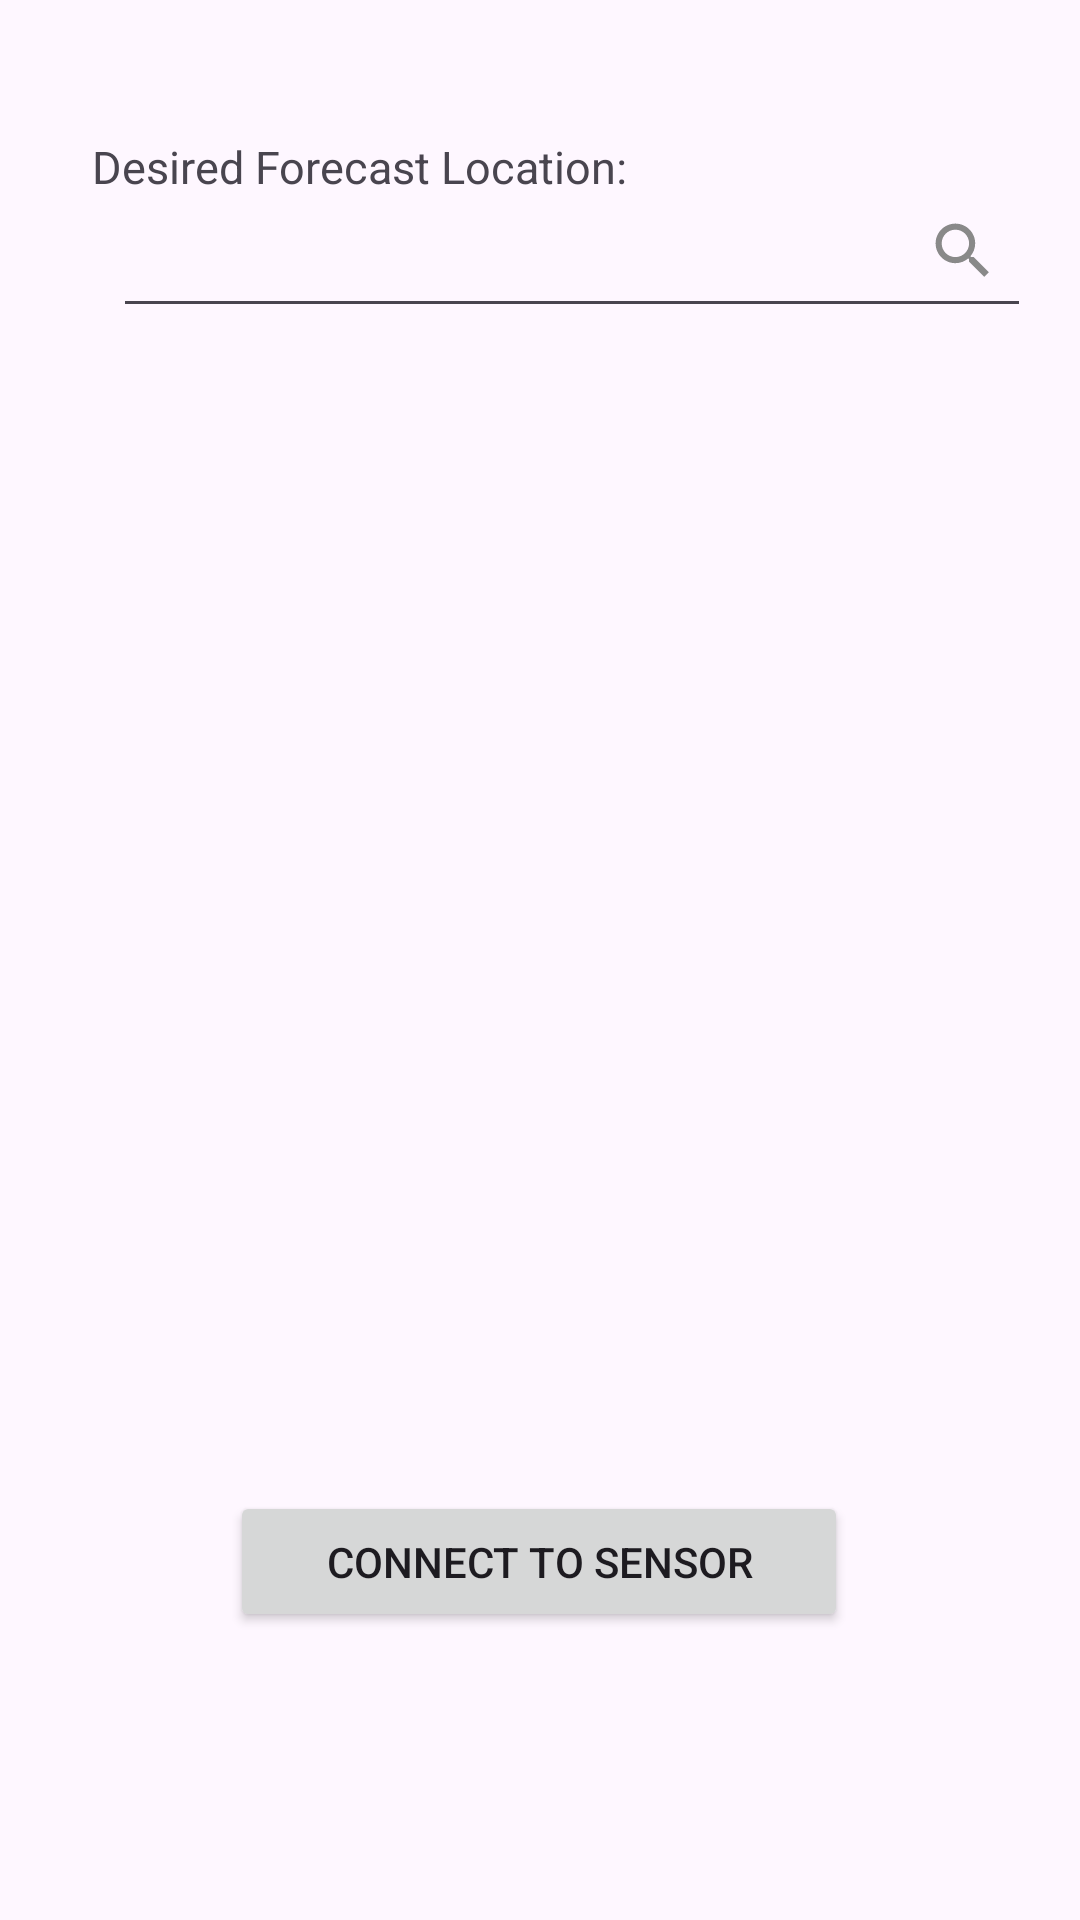

Icon bounding boxes for this 1080px x 1920px phone screenshot, format bbox=[x1, y1, x2, y2]:
search: bbox=[935, 223, 989, 277]
